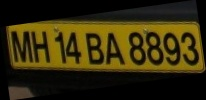character: (10, 30, 33, 63), (30, 29, 51, 63), (144, 30, 163, 65), (180, 31, 199, 66), (105, 32, 125, 65), (84, 32, 104, 64), (128, 30, 146, 65), (64, 30, 82, 63), (162, 32, 180, 65), (53, 30, 67, 64)
